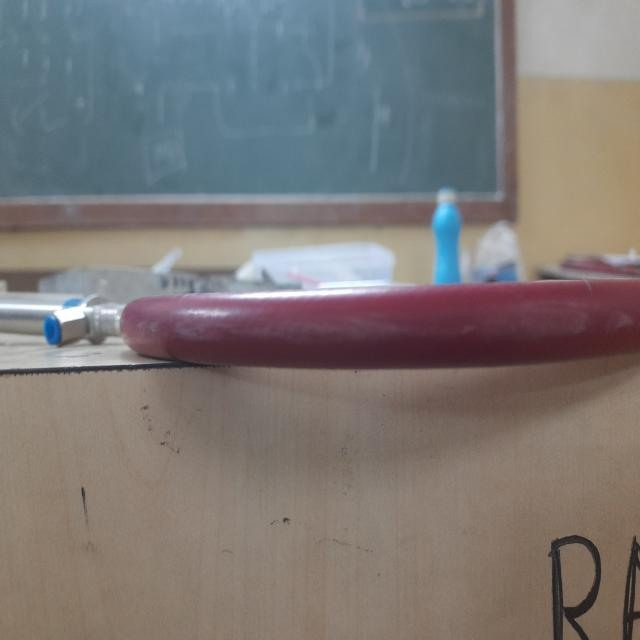daire: (133, 284, 640, 375)
